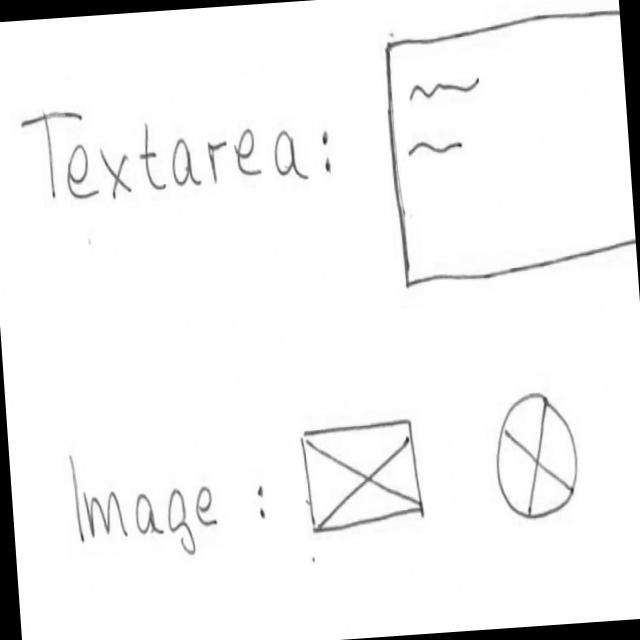image: (297, 412, 429, 539), (491, 387, 584, 527)
textarea: (377, 1, 638, 292)
